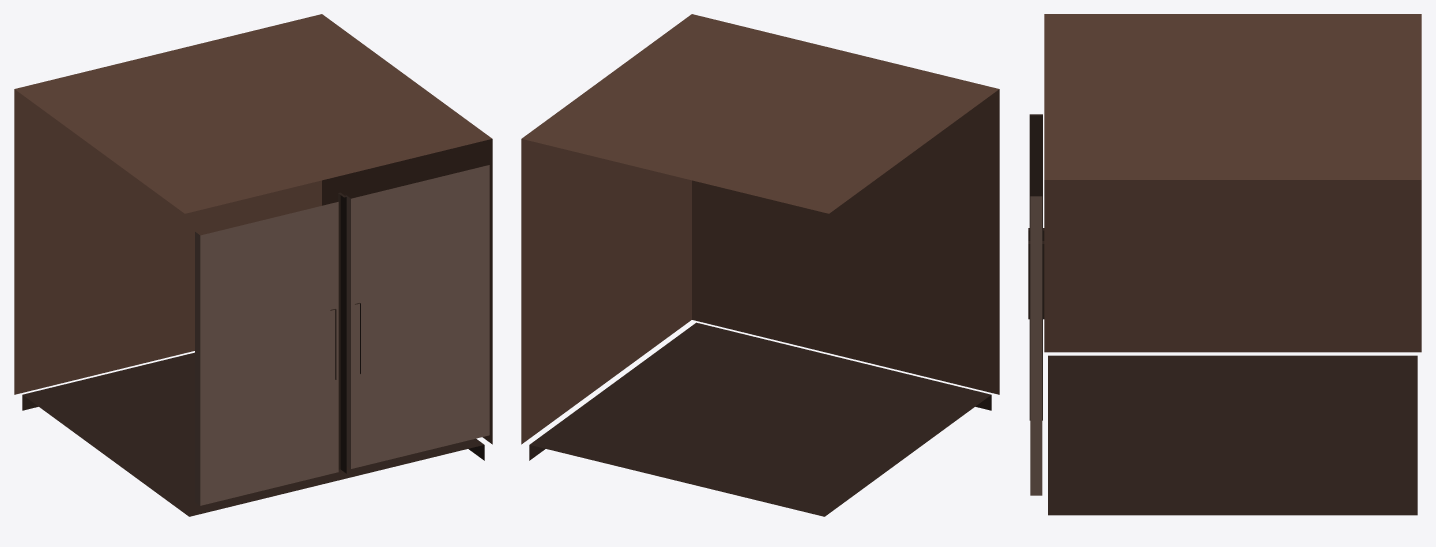
Rendered from Wardrobe-walnut.glb.
3 renders of one model, left to right at view 1: azimuth 30°, elevation 25°; view 2: azimuth 150°, elevation 25°; view 3: azimuth 270°, elevation 25°, orthographic. The views are drawn at different scales.
Parts seen in each view (by area): view 1: Wardrobe; view 2: Wardrobe; view 3: Wardrobe.
Boxes of the visible parts, bbox=[...] form: Wardrobe: bbox=[14, 14, 492, 516]; Wardrobe: bbox=[521, 14, 999, 516]; Wardrobe: bbox=[1028, 14, 1421, 515].
Bounding box in the file's own units: 1 × 1 × 1.
